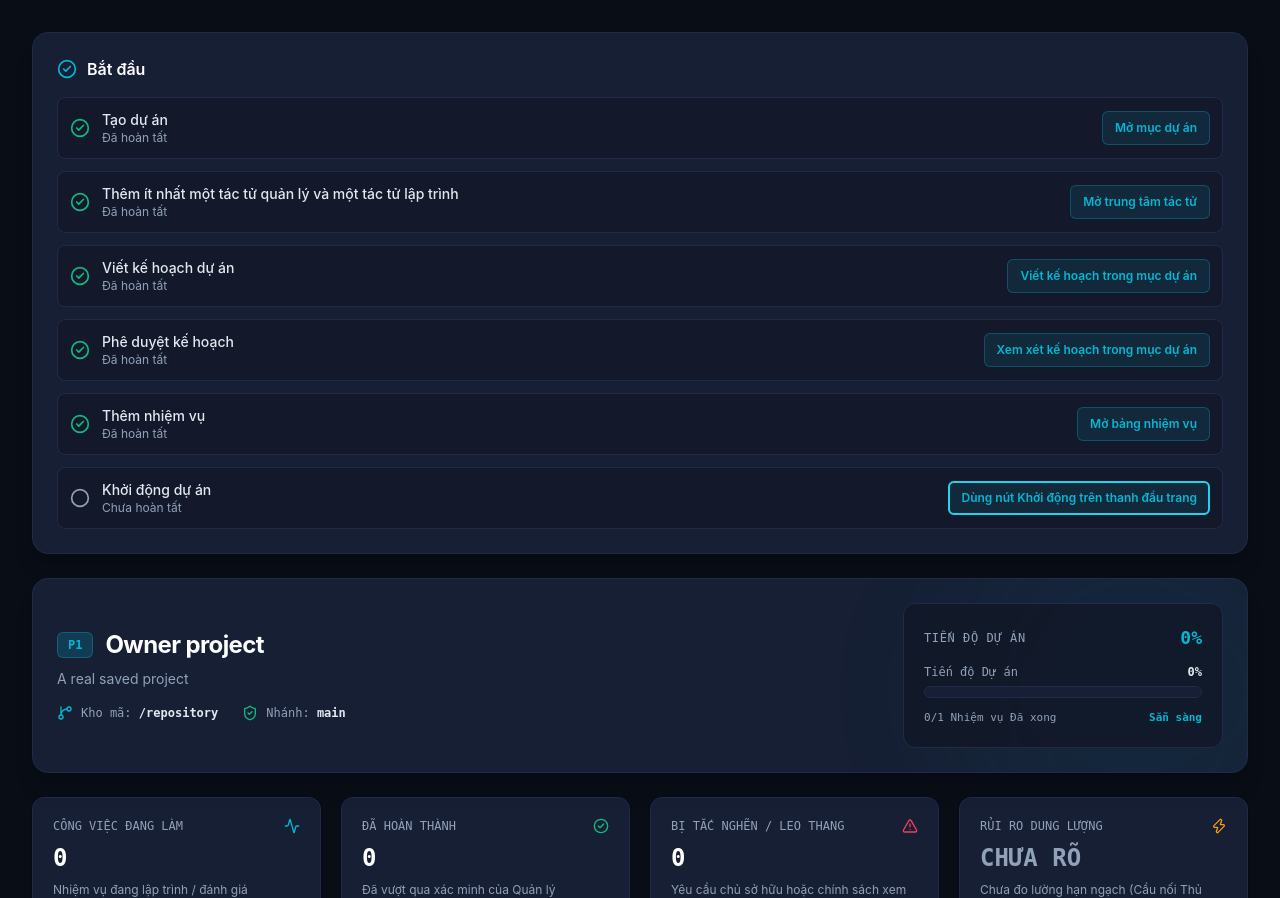
it: dashboard guide through the real providers in vi-VN › keeps the start step incomplete for READY and collapses setup only after the project starts
This screenshot has width=1280, height=898.
Expected: the element that starts with "Bắt đầu" is shown, [32,32,1248,554]
Expected: the list item that starts with "Khởi động dự án" shows "Chưa hoàn tất", [102,500,182,515]
Click the button "Dùng nút Khởi động trên thanh đầu trang" at {"x": 1079, "y": 498}, box [948,481,1210,515]
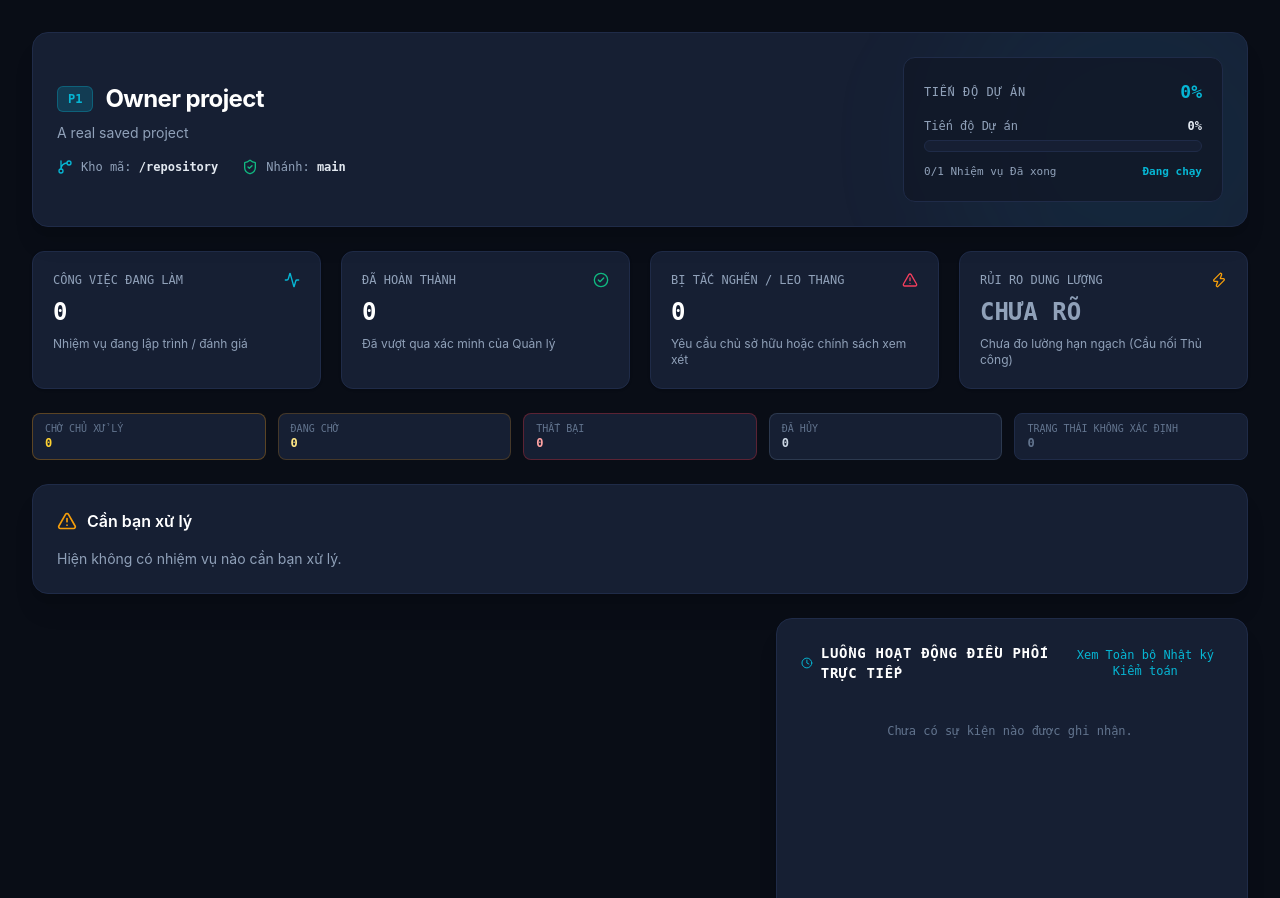
Result: the heading "Bắt đầu" is gone
Result: the text "Bắt đầu" is gone
Result: the text "Đang chạy" is shown at [1142,164,1202,180]
